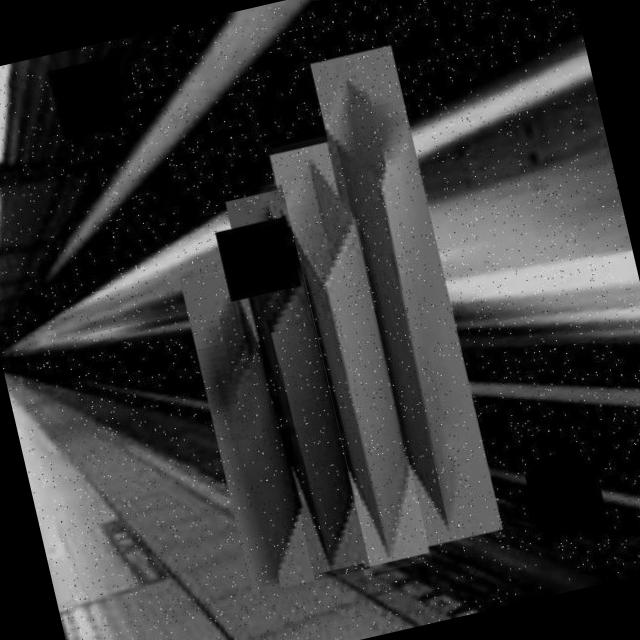box: (305, 38, 506, 556), (265, 133, 432, 576), (221, 184, 370, 582), (179, 262, 316, 601)
